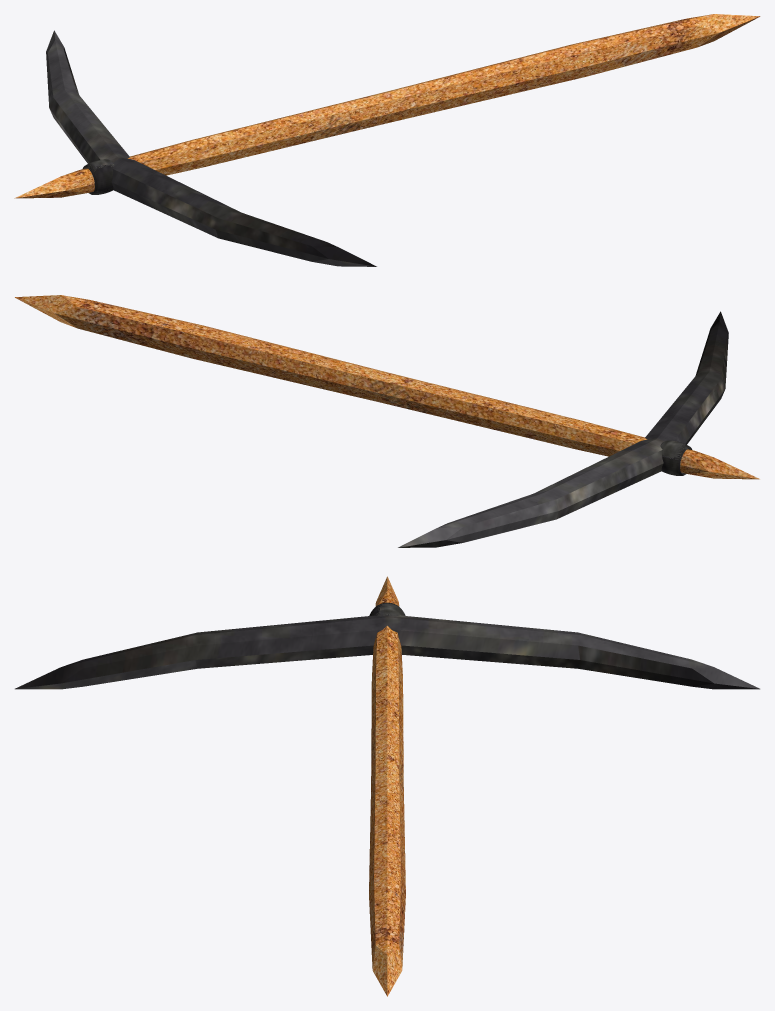
The model's file is Pickaxe_1.fbx.
3 views of the same model, one above another, from view 1: azimuth 30°, elevation 25°; view 2: azimuth 150°, elevation 25°; view 3: azimuth 270°, elevation 25° (orthographic). The views are drawn at different scales.
Parts seen in each view (by area): view 1: Cube.002; view 2: Cube.002; view 3: Cube.002.
Part boxes in pixels (left/top/right/bottom): Cube.002: left=14, top=14, right=760, bottom=266; Cube.002: left=15, top=295, right=759, bottom=547; Cube.002: left=15, top=576, right=759, bottom=996.
Size of the model in its own units: 53.05 by 2.3 by 39.8.
3 materials, 3 textured.
